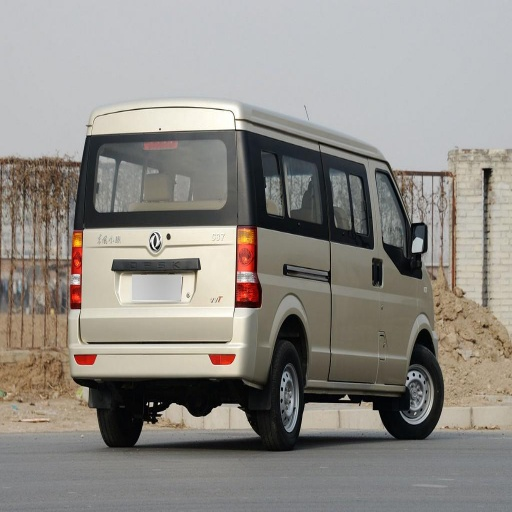back_bumper: (67, 312, 239, 379)
tailgate: (82, 206, 235, 304)
trunk: (73, 224, 382, 383)
